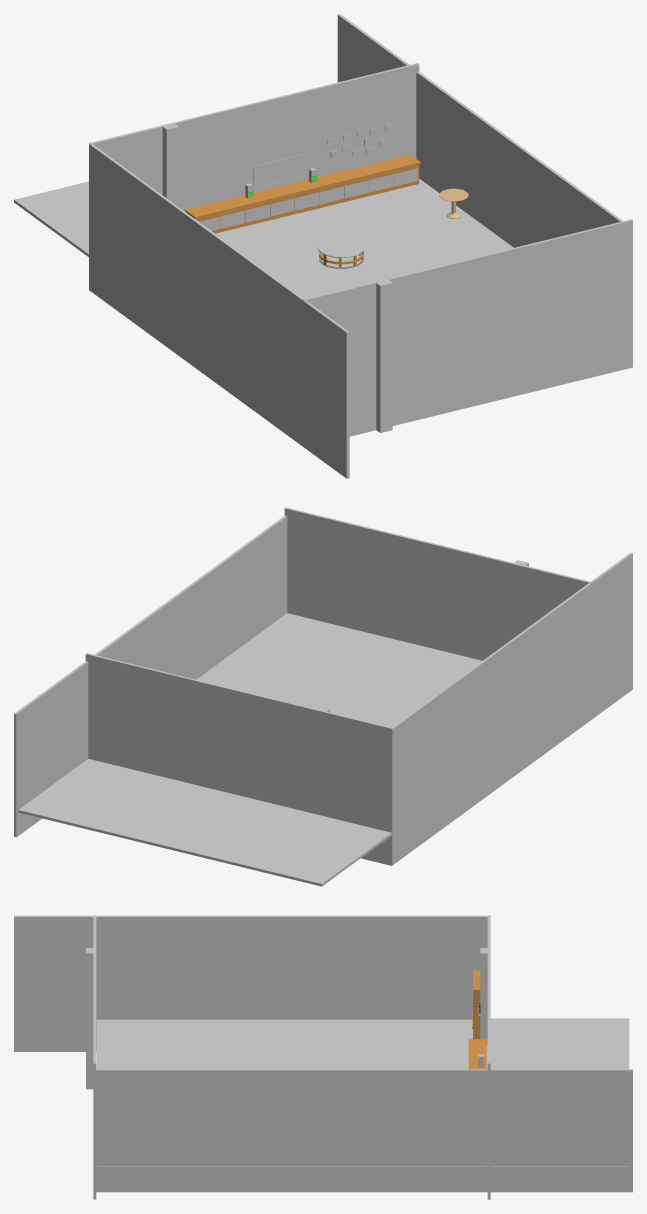
Rendered from house_empty (copy).dae.
3 renders of one model, top to bottom at view 1: azimuth 30°, elevation 25°; view 2: azimuth 150°, elevation 25°; view 3: azimuth 270°, elevation 25°, orthographic. The views are drawn at different scales.
Visible parts, largest first — view 1: Cube_001, Cube_001_002, Cube_002_001, Cube_003, Cube_001_001, Cube_002, Cube_005, Plane, Circle_002; view 2: Cube_003, Cube_001_002, Cube_001, Cube_001_001, Cube_002, Cube_002_001; view 3: Cube_001_001, Cube_003, Cube_002_001, Cube_002, Cube_001, Cube_001_002, Cube_041, Cube_005.
Boxes of the visible parts, left/top/right/bottom form: Cube_001: left=302, top=219, right=632, bottom=436; Cube_001_002: left=89, top=63, right=419, bottom=211; Cube_002_001: left=210, top=232, right=349, bottom=478; Cube_003: left=14, top=179, right=513, bottom=298; Cube_001_001: left=337, top=14, right=622, bottom=247; Cube_002: left=89, top=144, right=225, bottom=378; Cube_005: left=184, top=154, right=420, bottom=233; Plane: left=253, top=153, right=304, bottom=188; Circle_002: left=318, top=237, right=364, bottom=257; Cube_003: left=18, top=613, right=482, bottom=886; Cube_001_002: left=85, top=653, right=392, bottom=865; Cube_001: left=284, top=507, right=592, bottom=660; Cube_001_001: left=14, top=515, right=287, bottom=837; Cube_002: left=392, top=635, right=520, bottom=865; Cube_002_001: left=503, top=552, right=632, bottom=771; Cube_001_001: left=96, top=1069, right=632, bottom=1192; Cube_003: left=96, top=1018, right=629, bottom=1169; Cube_002_001: left=14, top=915, right=266, bottom=1051; Cube_002: left=237, top=915, right=487, bottom=1019; Cube_001: left=86, top=915, right=96, bottom=1199; Cube_001_002: left=480, top=915, right=490, bottom=1199; Cube_041: left=472, top=970, right=480, bottom=1039; Cube_005: left=468, top=1039, right=487, bottom=1069.
Size of the model in its own units: 6.75 by 11.91 by 2.89.
